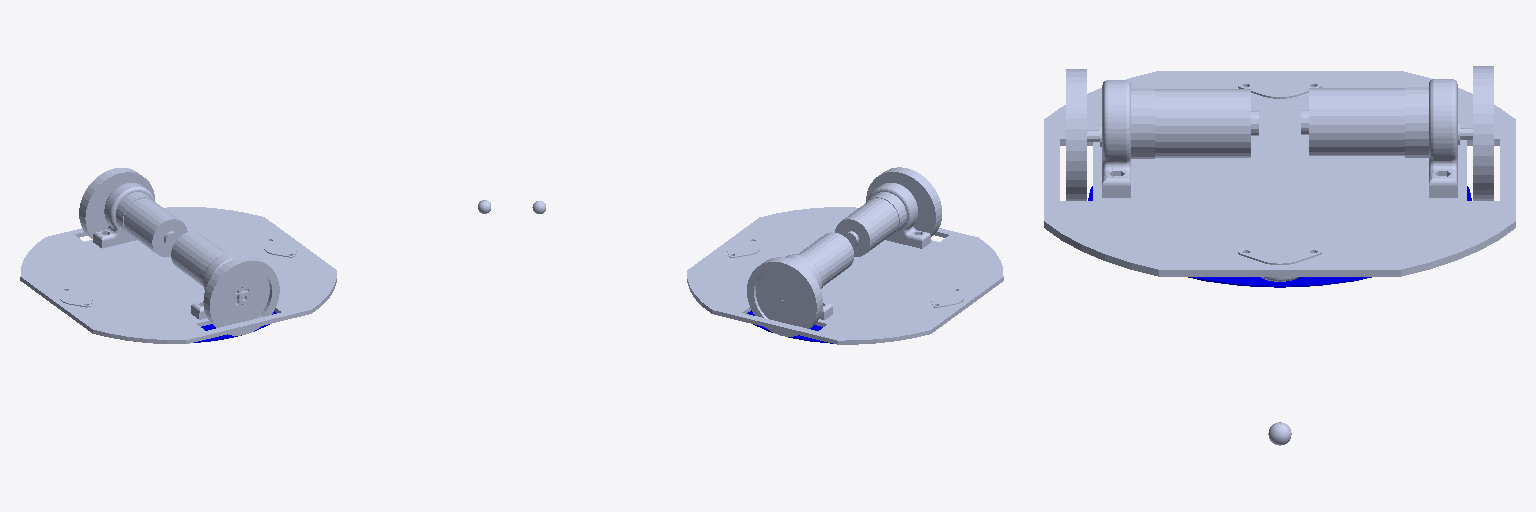
robot.urdf — dolly:
<?xml version="1.0" encoding="utf-8"?>
<!-- This URDF was automatically created by SolidWorks to URDF Exporter! Originally created by [author] ([email redacted]) 
     Commit Version: 1.6.0-4-g7f85cfe  Build Version: 1.6.7995.38578
     For more information, please see http://wiki.ros.org/sw_urdf_exporter -->
<robot
  name="dolly">

  <!-- Start of my code -->
  <link
    name="base_footprint">
    <visual>
      <origin
        xyz="0 0 0"
        rpy="0 0 0" />
      <geometry>
        <cylinder length="0.001" radius="0.1"/>
      </geometry>
      <material
        name="">
        <color
          rgba="0 0 1 1" />
      </material>
    </visual>
  </link>
  <!-- End of my code -->

  <link
    name="base_link">
    <inertial>
      <origin
        xyz="0.000320698542465374 -1.38466755889852E-17 0.0141650754567844"
        rpy="0 0 0" />
      <mass
        value="2.84947390106727" />
      <inertia
        ixx="0.0070164839699455"
        ixy="4.12242135597668E-07"
        ixz="9.01373820260187E-21"
        iyy="0.00704427689076199"
        iyz="-2.58578100881081E-21"
        izz="0.0138516125887678" />
    </inertial>
    <visual>
      <origin
        xyz="0 0 0"
        rpy="0 0 0" />
      <geometry>
        <mesh
          filename="package://dolly_description/meshes/base_link.STL" />
      </geometry>
      <material
        name="">
        <color
          rgba="0.792156862745098 0.819607843137255 0.933333333333333 1" />
      </material>
    </visual>
    <collision>
      <origin
        xyz="0 0 0"
        rpy="0 0 0" />
      <geometry>
        <mesh
          filename="package://dolly_description/meshes/base_link.STL" />
      </geometry>
    </collision>
  </link>

  <!-- Start of my code -->
  <joint
    name="base_footprint_to_base_link"
    type="fixed">
    <origin
      xyz="0 0 0.016"
      rpy="0 0 0" />
    <parent
      link="base_footprint" />
    <child
      link="base_link" />
    <axis
      xyz="0 -1 0" />
  </joint>
  <!-- End of my code -->
  
  <link
    name="left_wheel">
    <inertial>
      <origin
        xyz="1.0842021724855E-19 -1.38777878078145E-17 -3.46944695195361E-18"
        rpy="0 0 0" />
      <mass
        value="0.21389788050971" />
      <inertia
        ixx="7.9924596730356E-05"
        ixy="9.39573778283677E-24"
        ixz="-8.41846427878367E-23"
        iyy="0.000157056017019794"
        iyz="-5.37667398159315E-24"
        izz="7.9924596730356E-05" />
    </inertial>
    <visual>
      <origin
        xyz="0 0 0"
        rpy="0 0 0" />
      <geometry>
        <mesh
          filename="package://dolly_description/meshes/left_wheel.STL" />
      </geometry>
      <material
        name="">
        <color
          rgba="0.792156862745098 0.819607843137255 0.933333333333333 1" />
      </material>
    </visual>
    <collision>
      <origin
        xyz="0 0 0"
        rpy="0 0 0" />
      <geometry>
        <mesh
          filename="package://dolly_description/meshes/left_wheel.STL" />
      </geometry>
    </collision>
  </link>
  <joint
    name="left_wheel_to_base"
    type="continuous">
    <origin
      xyz="-0.000568807268986191 0.1055 0.0244882756394961"
      rpy="0 0 0" />
    <parent
      link="base_link" />
    <child
      link="left_wheel" />
    <axis
      xyz="0 -1 0" />
  </joint>
  <link
    name="right_wheel">
    <inertial>
      <origin
        xyz="0 -1.38777878078145E-17 0"
        rpy="0 0 0" />
      <mass
        value="0.21389788050971" />
      <inertia
        ixx="7.9924596730356E-05"
        ixy="3.14510242253844E-24"
        ixz="-1.67685649879966E-22"
        iyy="0.000157056017019794"
        iyz="-1.32781947727186E-22"
        izz="7.9924596730356E-05" />
    </inertial>
    <visual>
      <origin
        xyz="0 0 0"
        rpy="0 0 0" />
      <geometry>
        <mesh
          filename="package://dolly_description/meshes/right_wheel.STL" />
      </geometry>
      <material
        name="">
        <color
          rgba="0.792156862745098 0.819607843137255 0.933333333333333 1" />
      </material>
    </visual>
    <collision>
      <origin
        xyz="0 0 0"
        rpy="0 0 0" />
      <geometry>
        <mesh
          filename="package://dolly_description/meshes/right_wheel.STL" />
      </geometry>
    </collision>
  </link>
  <joint
    name="right_wheel_to_base"
    type="continuous">
    <origin
      xyz="0.00202133439372744 -0.1055 0.0244882756394961"
      rpy="0 0 0" />
    <parent
      link="base_link" />
    <child
      link="right_wheel" />
    <axis
      xyz="0 1 0" />
  </joint>
  <link
    name="front_caster">
    <inertial>
      <origin
        xyz="0 -3.3881317890172E-20 0"
        rpy="0 0 0" />
      <mass
        value="0.000904778684233861" />
      <inertia
        ixx="1.30288130529676E-08"
        ixy="-1.40607345541878E-25"
        ixz="6.33674757152668E-25"
        iyy="1.30288130529676E-08"
        iyz="-6.30195762572967E-26"
        izz="1.30288130529676E-08" />
    </inertial>
    <visual>
      <origin
        xyz="0 0 0"
        rpy="0 0 0" />
      <geometry>
        <mesh
          filename="package://dolly_description/meshes/front_caster.STL" />
      </geometry>
      <material
        name="">
        <color
          rgba="0.792156862745098 0.819607843137255 0.933333333333333 1" />
      </material>
    </visual>
    <collision>
      <origin
        xyz="0 0 0"
        rpy="0 0 0" />
      <geometry>
        <mesh
          filename="package://dolly_description/meshes/front_caster.STL" />
      </geometry>
    </collision>
  </link>
  <joint
    name="front_caster_to_base"
    type="fixed">
    <origin
      xyz="0.102 0 -0.004"
      rpy="0 0 0" />
    <parent
      link="base_link" />
    <child
      link="front_caster" />
    <axis
      xyz="0 0 0" />
  </joint>
  <link
    name="back_caster">
    <inertial>
      <origin
        xyz="1.38777878078145E-17 3.3881317890172E-20 8.67361737988404E-19"
        rpy="0 0 0" />
      <mass
        value="0.000904778684233861" />
      <inertia
        ixx="1.30288130529676E-08"
        ixy="-1.40607345541878E-25"
        ixz="1.10340452920869E-24"
        iyy="1.30288130529676E-08"
        iyz="-1.85134607508612E-25"
        izz="1.30288130529676E-08" />
    </inertial>
    <visual>
      <origin
        xyz="0 0 0"
        rpy="0 0 0" />
      <geometry>
        <mesh
          filename="package://dolly_description/meshes/back_caster.STL" />
      </geometry>
      <material
        name="">
        <color
          rgba="0.792156862745098 0.819607843137255 0.933333333333333 1" />
      </material>
    </visual>
    <collision>
      <origin
        xyz="0 0 0"
        rpy="0 0 0" />
      <geometry>
        <mesh
          filename="package://dolly_description/meshes/back_caster.STL" />
      </geometry>
    </collision>
  </link>
  <joint
    name="back_caster_to_base"
    type="fixed">
    <origin
      xyz="-0.102 0 -0.004"
      rpy="0 0 0" />
    <parent
      link="base_link" />
    <child
      link="back_caster" />
    <axis
      xyz="0 0 0" />
  </joint>
</robot>

--- Render facts (derived) ---
The picture shows the robot from 3 angles, left to right: view 1: azimuth 30°, elevation 25°; view 2: azimuth 150°, elevation 25°; view 3: azimuth 270°, elevation 25°; orthographic projection.
Robot: dolly — 6 links, 5 joints (2 continuous, 3 fixed); root link base_footprint; default pose: every joint at zero.
Visible links, largest first — view 1: base_link, right_wheel, left_wheel; view 2: base_link, left_wheel, right_wheel; view 3: base_link, left_wheel, right_wheel, base_footprint.
Boxes of the visible links, x1,y1,x2,y2 form: base_link: (20, 183, 336, 343); right_wheel: (203, 256, 279, 335); left_wheel: (79, 168, 154, 238); base_link: (687, 183, 1003, 344); left_wheel: (747, 257, 822, 336); right_wheel: (866, 167, 941, 236); base_link: (1044, 71, 1515, 281); left_wheel: (1473, 66, 1493, 200); right_wheel: (1066, 69, 1086, 200); base_footprint: (1088, 186, 1471, 287).
Size in the robot's own frame: 0.434 by 0.244 by 0.076 metres.
5 mesh visuals loaded from 5 distinct referenced files (5 binary STL).
